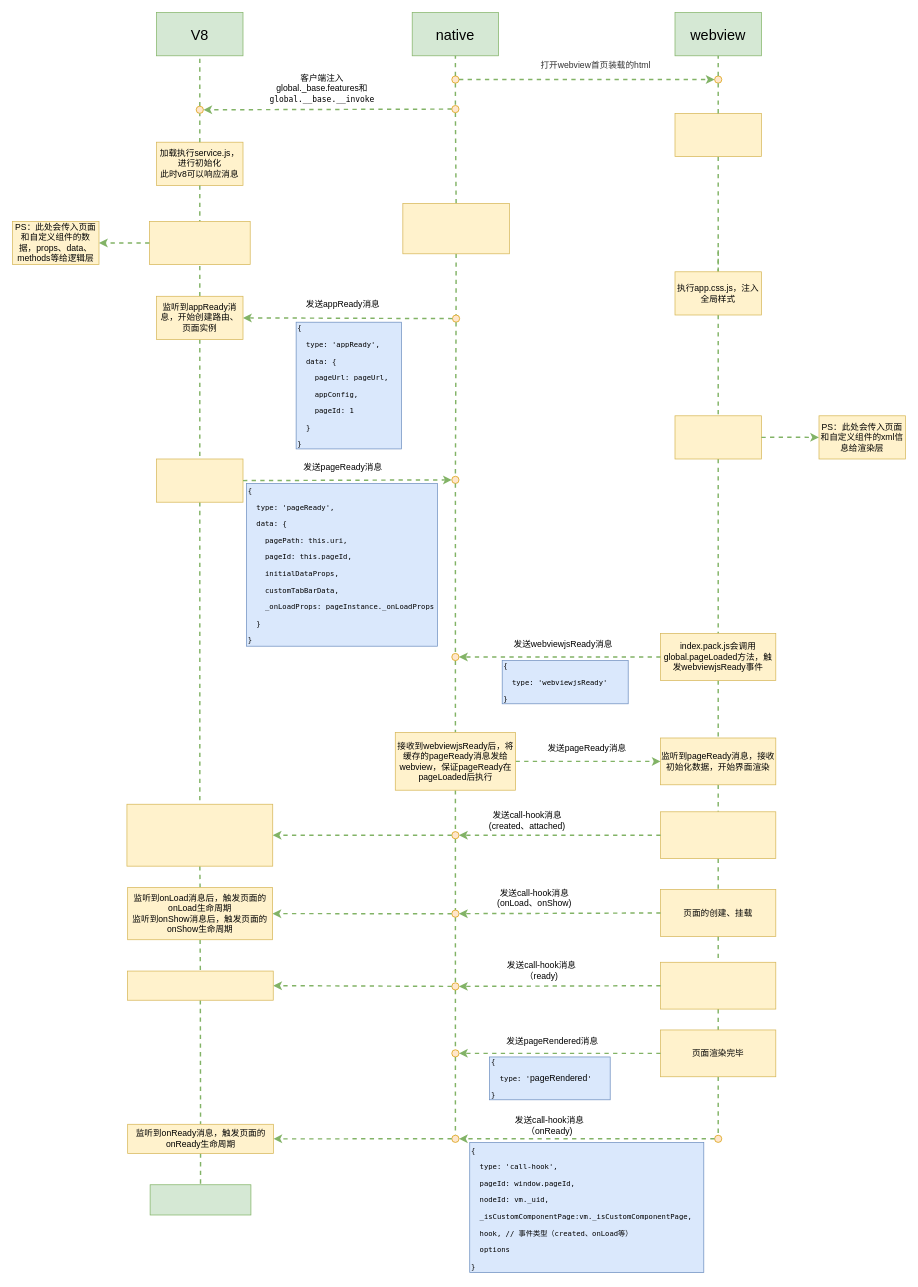
This 918x1287 diagram has some shape labels left out. Each missing label, with the centre of its shape:
"native可以拿到v8，然后控制v8执行app.js，执行完毕后发送appReady消息" belongs at point (455, 228).
"创建页面实例，初始化pageInstance" belongs at point (199, 480).
"加载执行renderer.js进行初始化" belongs at point (717, 135).
"执行app.js 触发App实例的onLaunch()和 onShow()生命周期函数" belongs at point (199, 243).
"执行首页的index.pack.js，注入页面样式" belongs at point (717, 437).
"监听到created消息后，创建自定义组件实例，触发组件的reated生命周期 监听到attached消息后，触发组件的attached生命周期" belongs at point (199, 835).
"监听到ready消息，触发组件的ready生命周期" belongs at point (200, 985).
"自定义组件渲染完毕" belongs at point (718, 985).
"自定义组件的创建、挂载" belongs at point (718, 835).
"首屏渲染完成" belongs at point (200, 1199).
